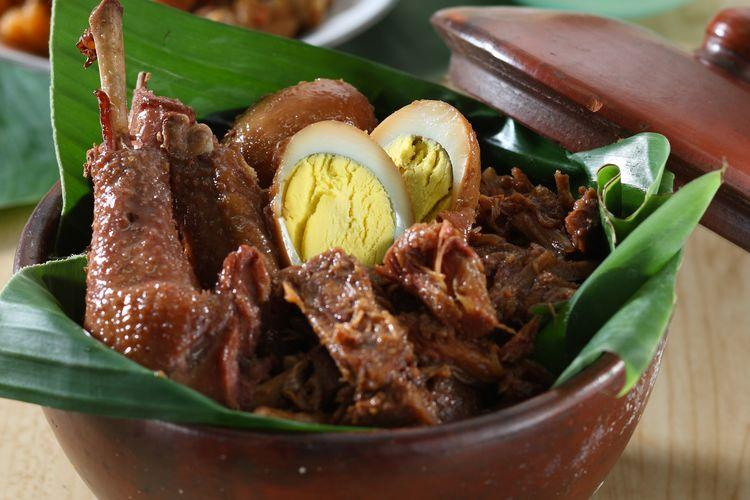gudeg: (81, 1, 600, 426)
